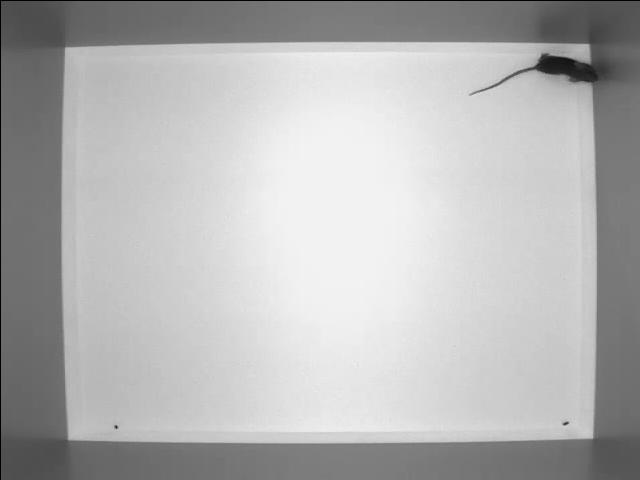Tikus: (468, 50, 598, 96)
